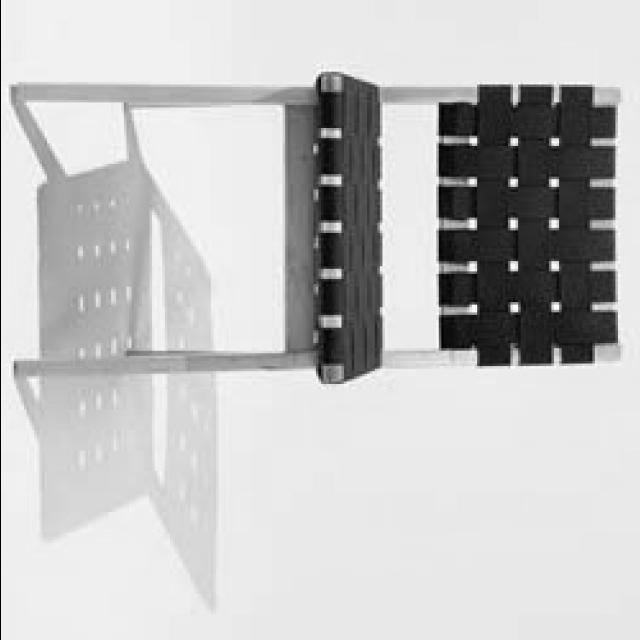chair: (15, 74, 622, 386)
